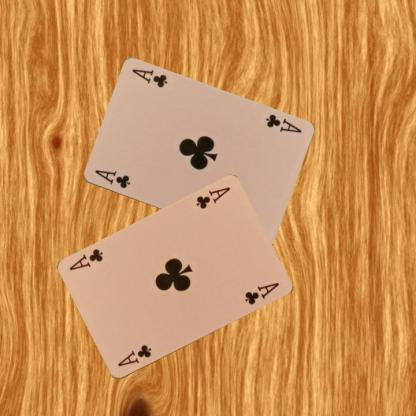Ac: (193, 184, 232, 211), (115, 342, 152, 368), (262, 112, 303, 134), (92, 167, 131, 190)
